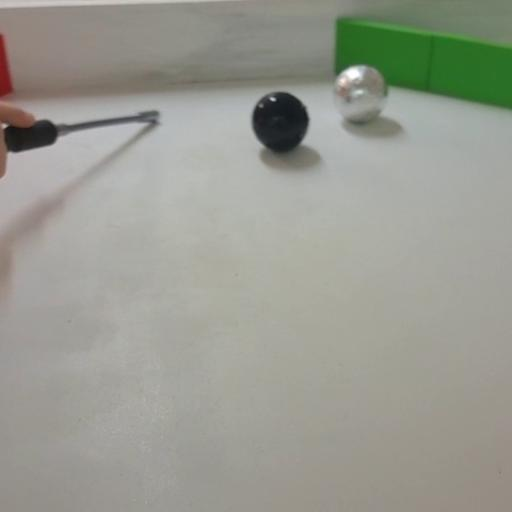alive: (332, 66, 386, 124)
dead: (251, 91, 309, 151)
